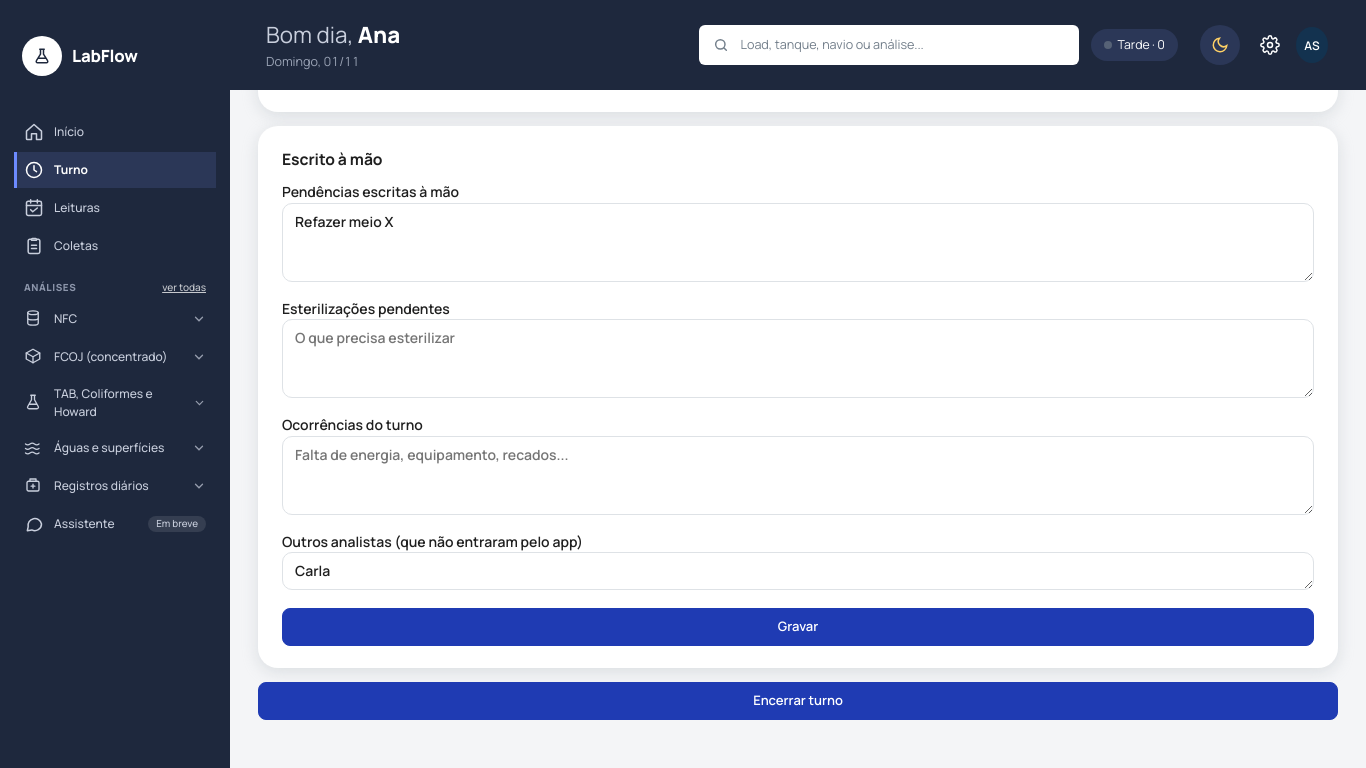
Test: Relatório do turno (APP-024) › Encerrar turno mostra o que passa adiante e só grava depois de confirmar
The width and height of the screenshot is (1366, 768).
(page scrolled)
Step 1. Click the button "Encerrar turno" → (798, 701), box [258, 682, 1338, 720]
(page scrolled)
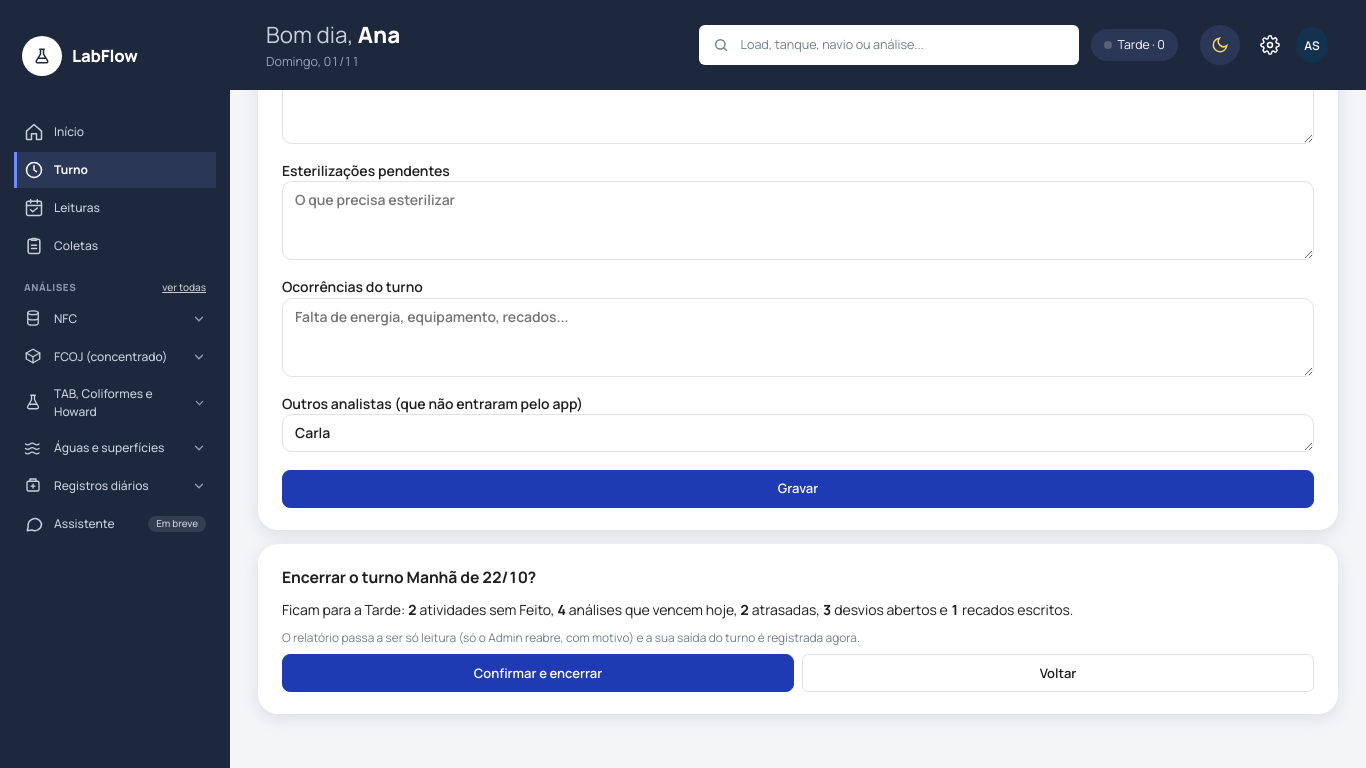
Now the form "Encerrar o turno" shows "Ficam para a Tarde: 2 atividades sem Feito, 4 análises que vencem hoje, 2 atrasadas, 3 desvios abertos e 1 recados escritos.", box [258, 544, 1338, 714]
Now the form "Encerrar o turno" shows "sua saída do turno é registrada agora", box [282, 629, 860, 646]
Step 2. Click the button "Confirmar e encerrar" → (538, 673), box [282, 654, 794, 692]
(page scrolled)
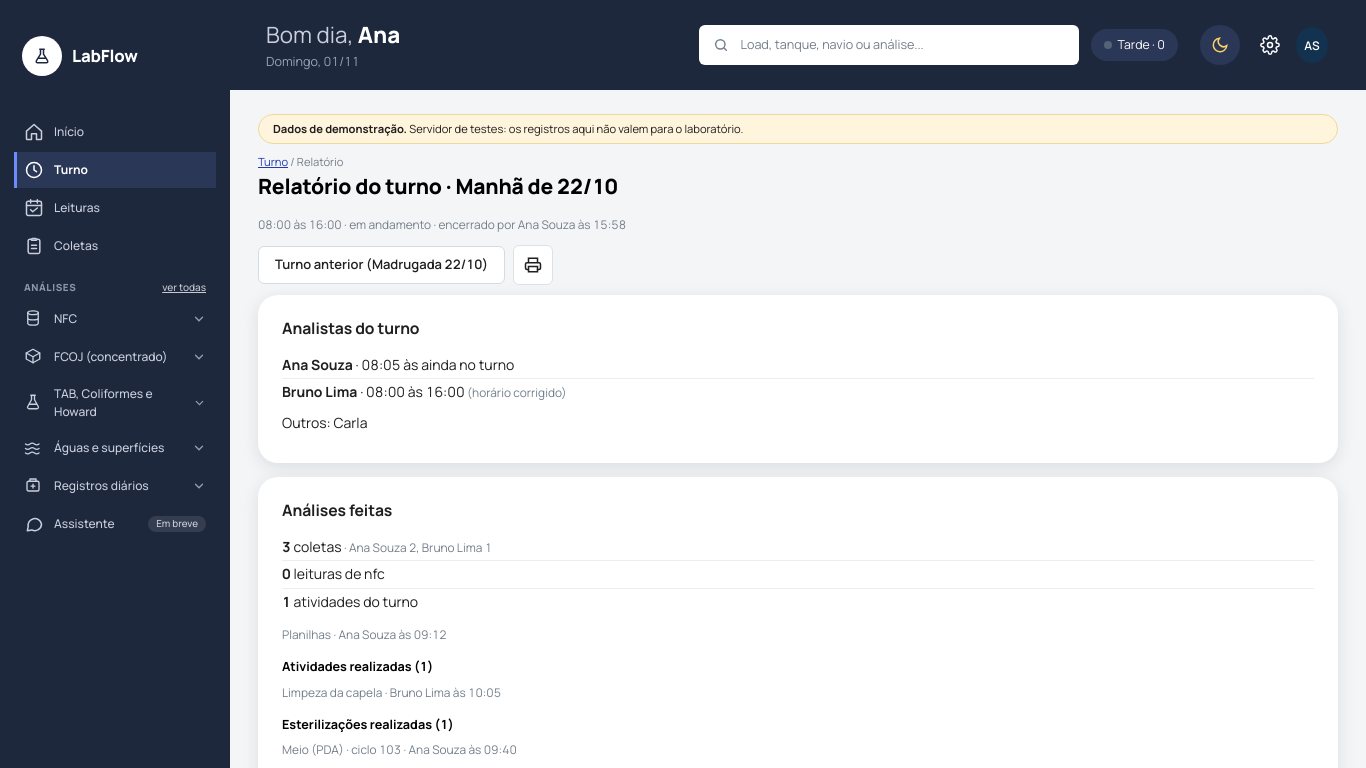
Expected: the button "Encerrar turno" is not shown
Now the text "encerrado por Ana Souza às 15:58" is shown, box [431, 216, 626, 233]
